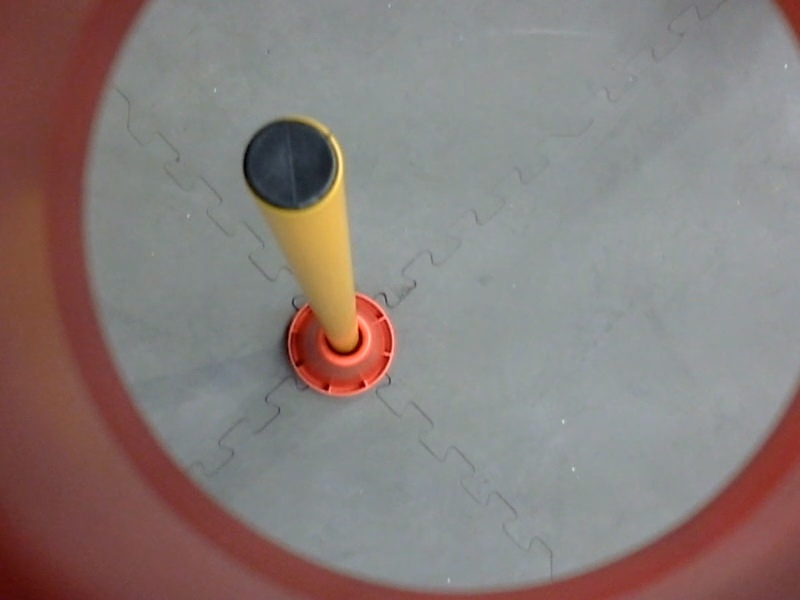tip: (235, 105, 354, 222)
